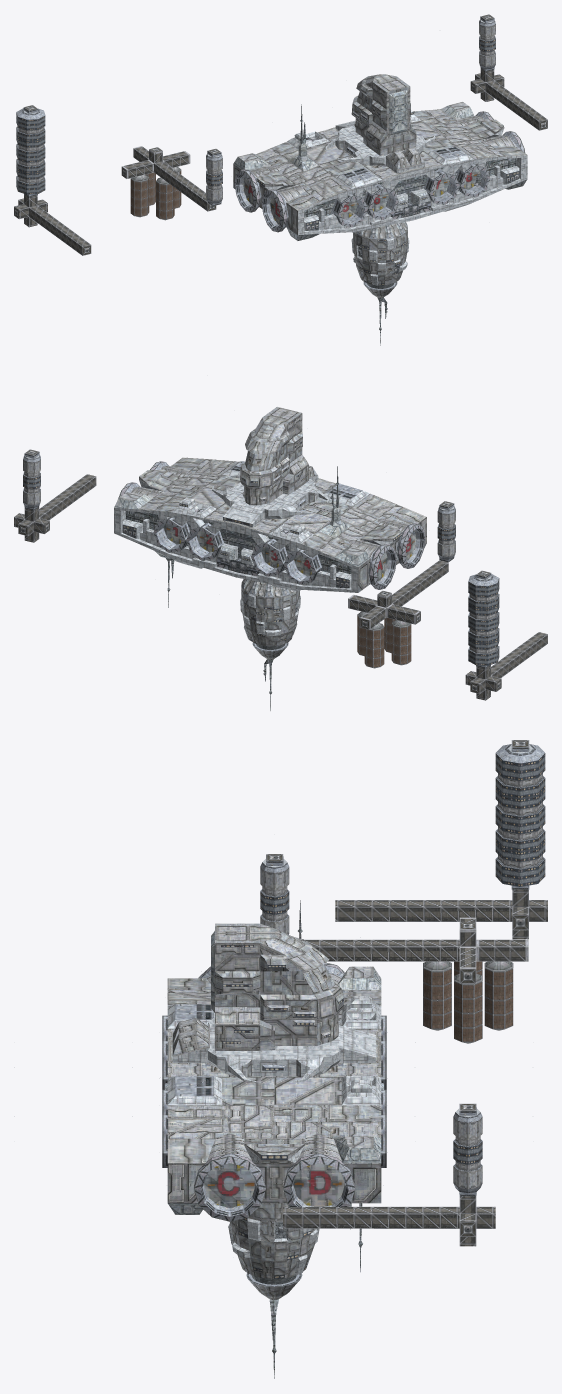
The model's file is FreePort.obj.
3 views of the same model, one above another, from view 1: azimuth 30°, elevation 25°; view 2: azimuth 150°, elevation 25°; view 3: azimuth 270°, elevation 25° (orthographic). The views are drawn at different scales.
Visible parts, largest first — view 1: trading_outpost, tink01, trading_outpost_toptwr, dmg_sect05, dmg_sect04, dmg_sect03, trading_outpost_btmtwr, hab01, dmg_sect06, dmg_sect07, hab02, dmg_sect01; view 2: tink01, trading_outpost, dmg_sect01, trading_outpost_toptwr, dmg_sect07, dmg_sect06, trading_outpost_btmtwr, hab01, dmg_sect05, dmg_sect03, dmg_sect02, hab02 (+1 smaller); view 3: tink01, dmg_sect03, trading_outpost, trading_outpost_toptwr, hab01, trading_outpost_btmtwr, dmg_sect01, dmg_sect02, hab02, dmg_sect07, dmg_sect04, dmg_sect06 (+1 smaller).
Part boxes in pixels (left/top/right/bottom): trading_outpost: left=318, top=120, right=504, bottom=220; tink01: left=14, top=68, right=547, bottom=255; trading_outpost_toptwr: left=351, top=74, right=416, bottom=155; dmg_sect05: left=261, top=165, right=339, bottom=240; dmg_sect04: left=319, top=165, right=412, bottom=232; dmg_sect03: left=441, top=111, right=527, bottom=201; trading_outpost_btmtwr: left=351, top=222, right=409, bottom=345; hab01: left=16, top=105, right=45, bottom=197; dmg_sect06: left=233, top=153, right=306, bottom=212; dmg_sect07: left=256, top=131, right=329, bottom=171; hab02: left=479, top=14, right=495, bottom=71; dmg_sect01: left=410, top=109, right=454, bottom=135; tink01: left=14, top=474, right=547, bottom=700; trading_outpost: left=204, top=459, right=331, bottom=588; dmg_sect01: left=138, top=487, right=240, bottom=577; trading_outpost_toptwr: left=240, top=407, right=308, bottom=505; dmg_sect07: left=269, top=519, right=351, bottom=591; dmg_sect06: left=330, top=519, right=401, bottom=592; trading_outpost_btmtwr: left=240, top=579, right=300, bottom=710; hab01: left=468, top=570, right=499, bottom=668; dmg_sect05: left=340, top=499, right=426, bottom=568; dmg_sect03: left=121, top=457, right=212, bottom=497; dmg_sect02: left=114, top=490, right=172, bottom=558; hab02: left=23, top=449, right=40, bottom=510; tink01: left=260, top=854, right=547, bottom=1246; dmg_sect03: left=167, top=1105, right=336, bottom=1221; trading_outpost: left=162, top=1017, right=386, bottom=1167; trading_outpost_toptwr: left=211, top=923, right=343, bottom=1050; hab01: left=495, top=740, right=545, bottom=889; trading_outpost_btmtwr: left=228, top=1203, right=319, bottom=1378; dmg_sect01: left=274, top=1076, right=386, bottom=1167; dmg_sect02: left=297, top=1136, right=381, bottom=1206; hab02: left=453, top=1103, right=482, bottom=1196; dmg_sect07: left=338, top=990, right=386, bottom=1040; dmg_sect04: left=162, top=1000, right=214, bottom=1089; dmg_sect06: left=324, top=962, right=381, bottom=991.
Bounding box in the file's own units: 889 × 545 × 530.
14 materials, 14 textured.
